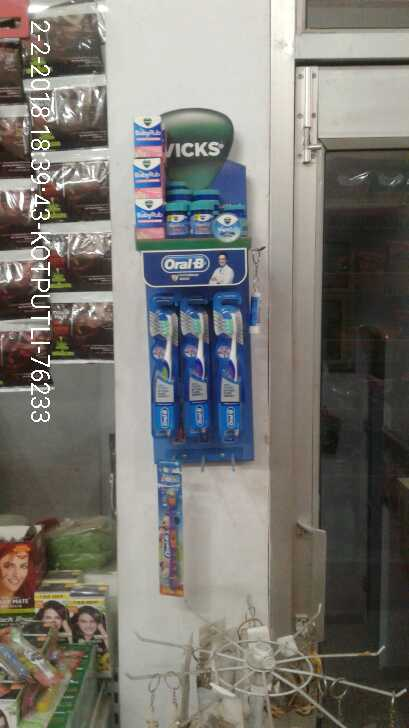pharmacy: (176, 298, 212, 438), (215, 294, 246, 445), (160, 462, 187, 600), (153, 299, 178, 436), (134, 198, 165, 239), (133, 116, 163, 158), (133, 158, 163, 198), (186, 198, 214, 238), (164, 197, 189, 239)
